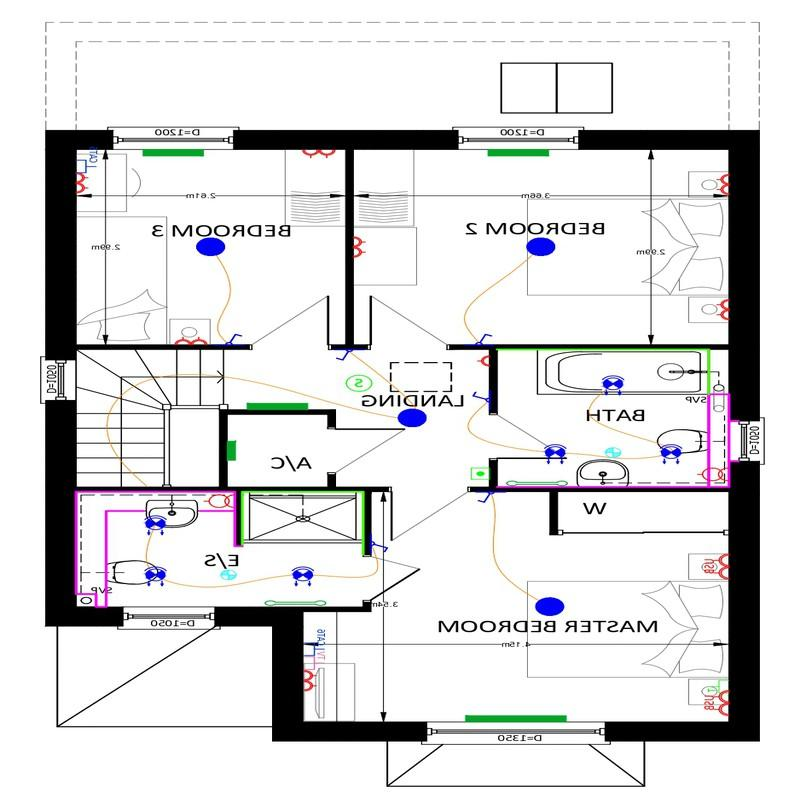Cat 6 Data Socket: (300, 636, 333, 658), (74, 153, 106, 173)
Ceiling Mounted Continuous Extract Fan With Boost Mode Activated By Light Switch: (598, 438, 627, 468), (216, 558, 239, 585)
Co-Ax TV Socket: (303, 653, 331, 669)
Double Socket: (294, 142, 338, 165), (711, 291, 733, 332), (170, 325, 210, 346), (299, 666, 326, 695), (354, 226, 371, 264), (74, 173, 99, 198), (716, 166, 732, 203)
Full Height Tiling: (500, 344, 719, 393), (239, 484, 365, 556)
Light Switch: (467, 382, 491, 414), (330, 343, 364, 362), (465, 330, 501, 346), (369, 535, 391, 561), (475, 489, 500, 510), (223, 326, 246, 347)
Low Energy Downlighter: (282, 560, 323, 597), (652, 436, 691, 473), (143, 559, 176, 599), (136, 510, 178, 539), (596, 370, 633, 399), (539, 439, 570, 468)
Low Energy Pendant Light: (188, 236, 242, 262), (528, 588, 572, 617), (393, 405, 436, 434), (519, 236, 560, 254)
Mains Wired Smoke Detector: (344, 368, 376, 397)
Programmable Room Thermostat: (464, 461, 491, 485)
Radiator: (453, 704, 579, 728), (133, 144, 208, 166), (243, 397, 313, 414), (481, 145, 555, 161), (224, 436, 244, 463)
Shaver Socket: (197, 489, 236, 517), (696, 462, 733, 485)
Single Socket: (469, 352, 491, 373)
Telephone Socket: (701, 673, 728, 693)
USB Double Socket: (696, 546, 729, 586), (701, 690, 731, 715)
